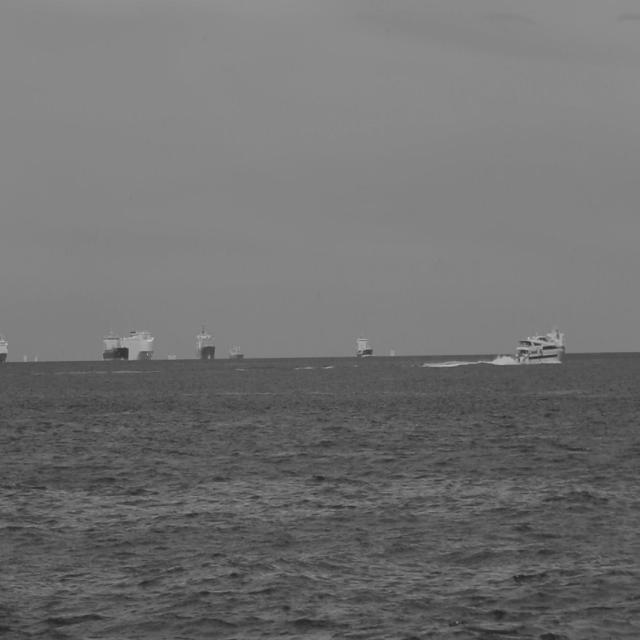ship: (514, 332, 564, 366), (98, 333, 128, 362), (126, 331, 152, 363), (194, 326, 214, 361), (353, 332, 374, 361), (554, 323, 567, 357), (225, 341, 242, 361), (0, 334, 6, 378)
